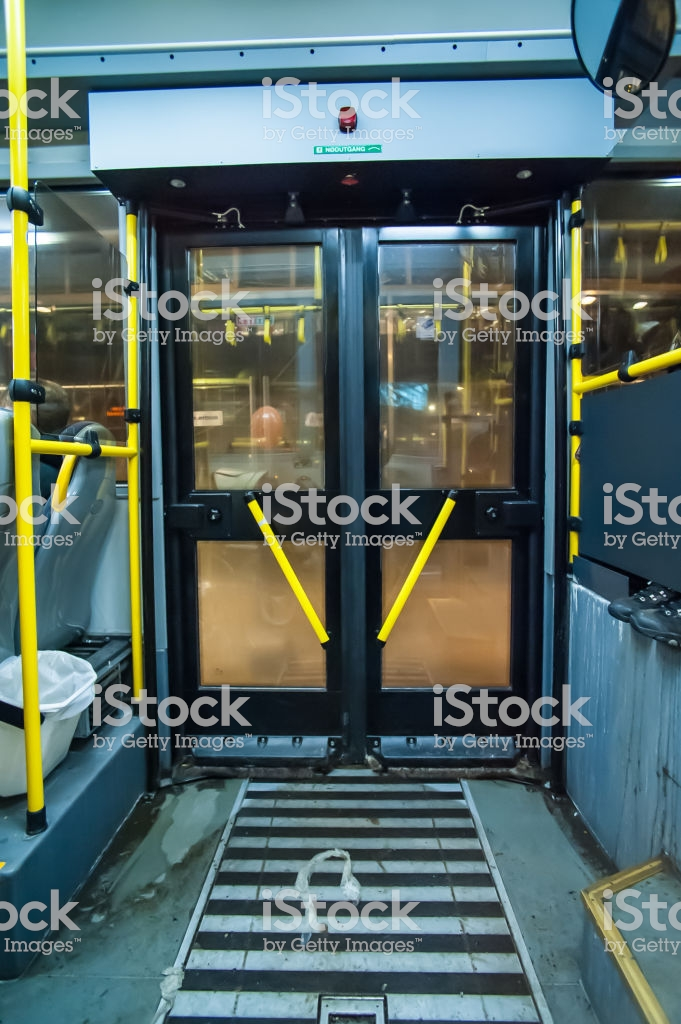exit: (142, 217, 544, 739)
